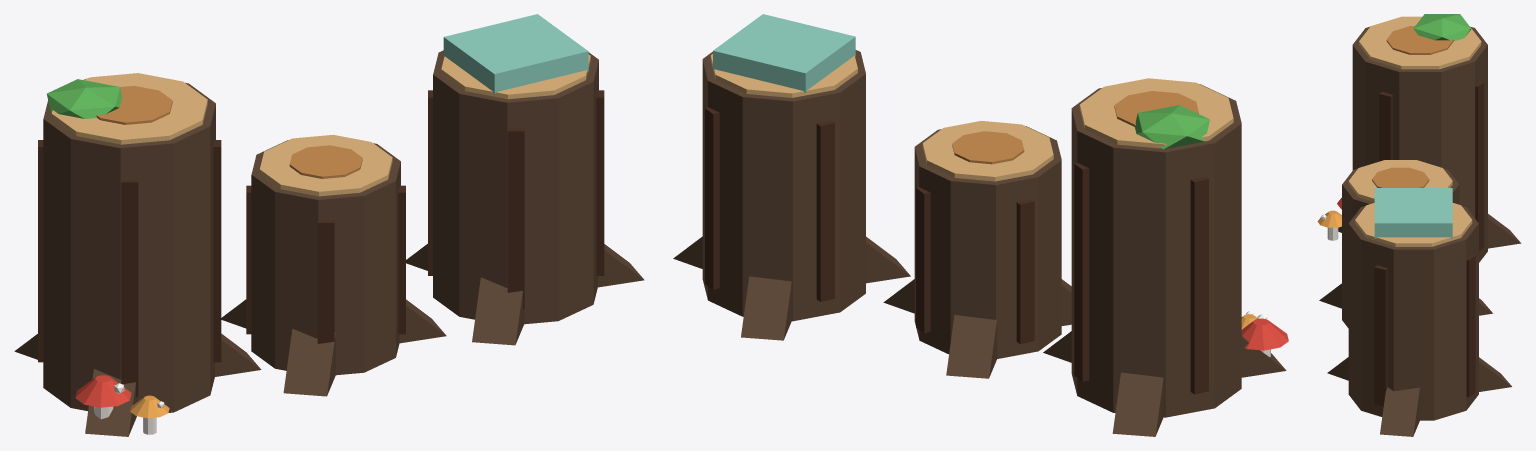
Rendered from CatCafe_Decor_LogStools.glb.
3 renders of one model, left to right at view 1: azimuth 30°, elevation 25°; view 2: azimuth 150°, elevation 25°; view 3: azimuth 270°, elevation 25°, orthographic. The views are drawn at different scales.
Visible parts, largest first — view 1: CatCafe_Decor_LogStools; view 2: CatCafe_Decor_LogStools; view 3: CatCafe_Decor_LogStools.
Part boxes in pixels (left/top/right/bottom): CatCafe_Decor_LogStools: left=14, top=14, right=644, bottom=436; CatCafe_Decor_LogStools: left=673, top=14, right=1288, bottom=436; CatCafe_Decor_LogStools: left=1317, top=14, right=1521, bottom=436.
Bounding box in the file's own units: 3.98 × 1.89 × 1.57.
1 material, 1 textured.
